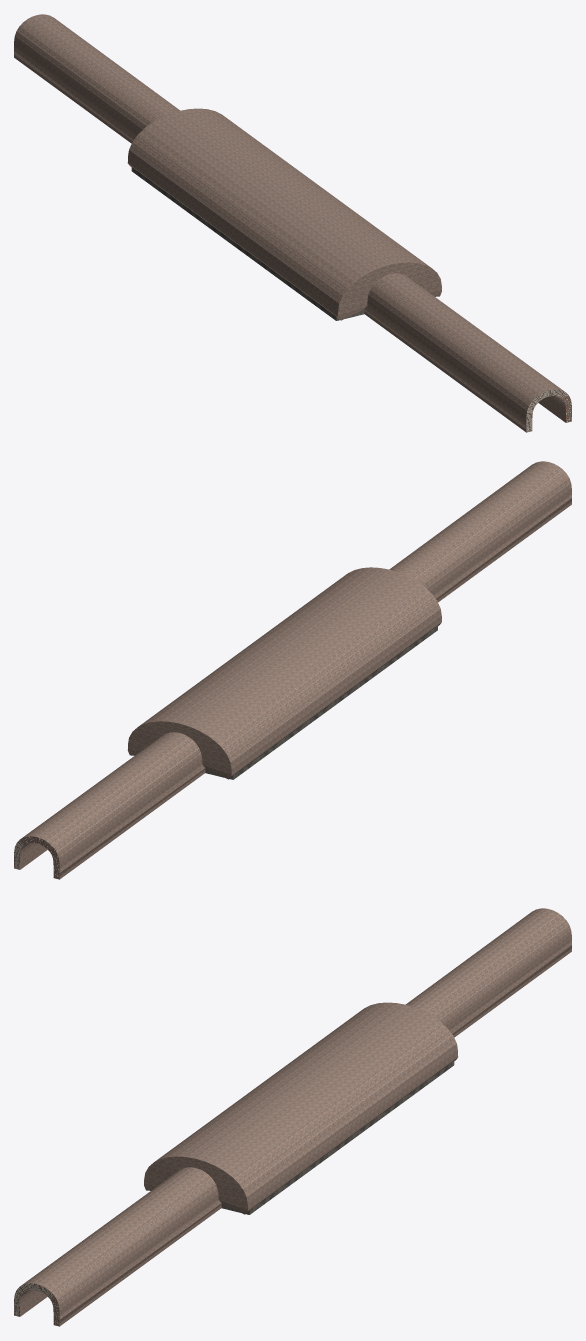
File: metro_station.glb
3 renders of one model, top to bottom at view 1: azimuth 30°, elevation 25°; view 2: azimuth 150°, elevation 25°; view 3: azimuth 330°, elevation 25°, orthographic.
Parts seen in each view (by area): view 1: Mur, Sol; view 2: Mur, Sol; view 3: Mur, Sol.
Boxes of the visible parts, box(x1,y1,x2,y2) form: Mur: box(14, 14, 571, 432); Sol: box(131, 167, 435, 320); Mur: box(14, 461, 571, 879); Sol: box(205, 626, 437, 779); Mur: box(14, 908, 571, 1326); Sol: box(150, 1061, 454, 1214).
Bounding box in the file's own units: 20.84 × 8.81 × 178.
14 materials, 6 textured.
